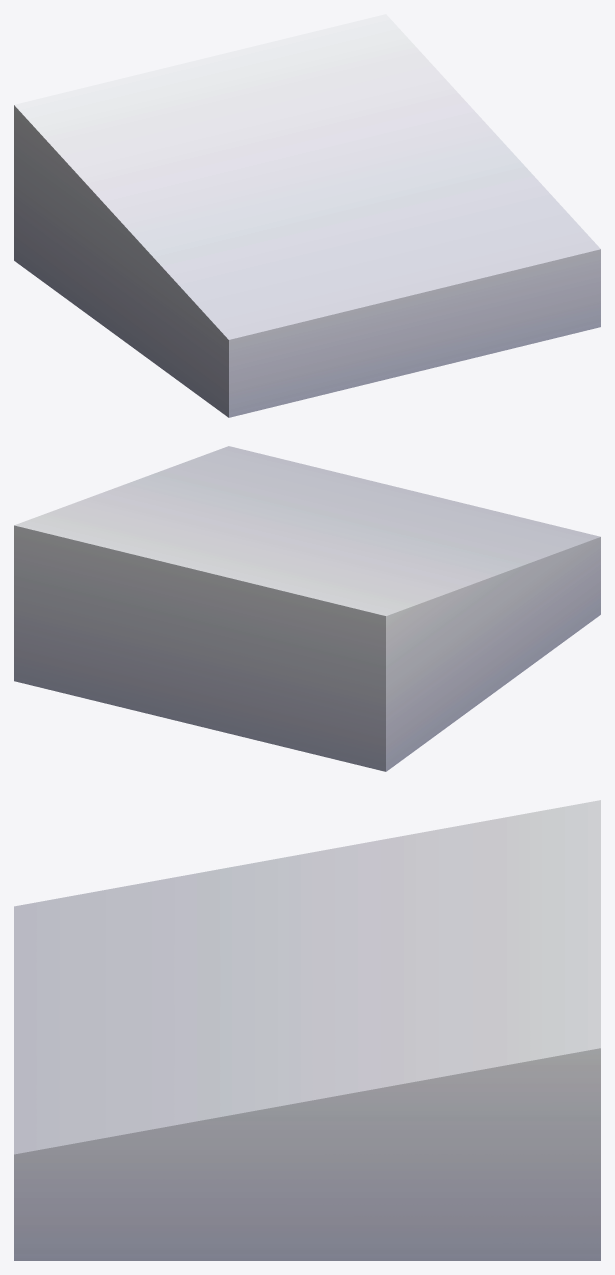
File: kenney-tower-defense-snow-tile-slope.glb
3 renders of one model, top to bottom at view 1: azimuth 30°, elevation 25°; view 2: azimuth 150°, elevation 25°; view 3: azimuth 270°, elevation 25°, orthographic. The views are drawn at different scales.
Parts seen in each view (by area): view 1: snow-tile-slope; view 2: snow-tile-slope; view 3: snow-tile-slope.
Part boxes in pixels (x1,y1,x2,y2): snow-tile-slope: (14, 14, 600, 417); snow-tile-slope: (14, 446, 600, 771); snow-tile-slope: (14, 800, 600, 1260).
Bounding box in the file's own units: 1 × 0.3999 × 1.
1 material, 1 textured.
